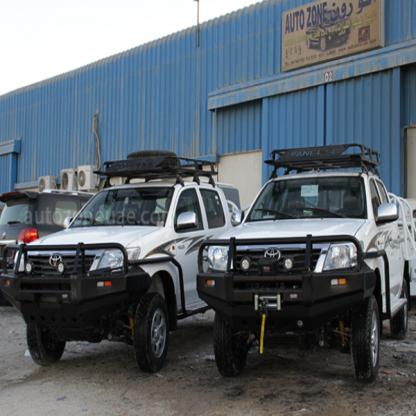light_vehicle: (194, 140, 416, 381), (8, 143, 192, 380)
